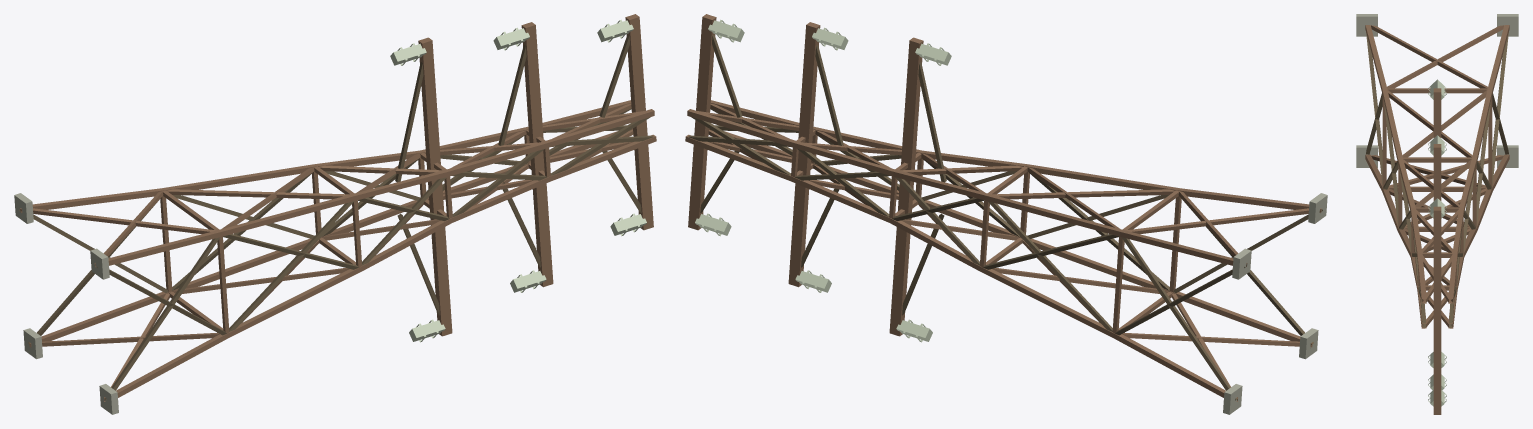
The model's file is ua_power_pylon_fallen.obj.
3 renders of one model, left to right at view 1: azimuth 30°, elevation 25°; view 2: azimuth 150°, elevation 25°; view 3: azimuth 270°, elevation 25°, orthographic. The views are drawn at different scales.
Parts seen in each view (by area): view 1: ua_power_pylon_fallen; view 2: ua_power_pylon_fallen; view 3: ua_power_pylon_fallen.
Part boxes in pixels (x1,y1,x2,y2): ua_power_pylon_fallen: (14,14,656,414); ua_power_pylon_fallen: (685,14,1327,414); ua_power_pylon_fallen: (1356,14,1518,414).
Bounding box in the file's own units: 16.26 × 7.86 × 4.15.
